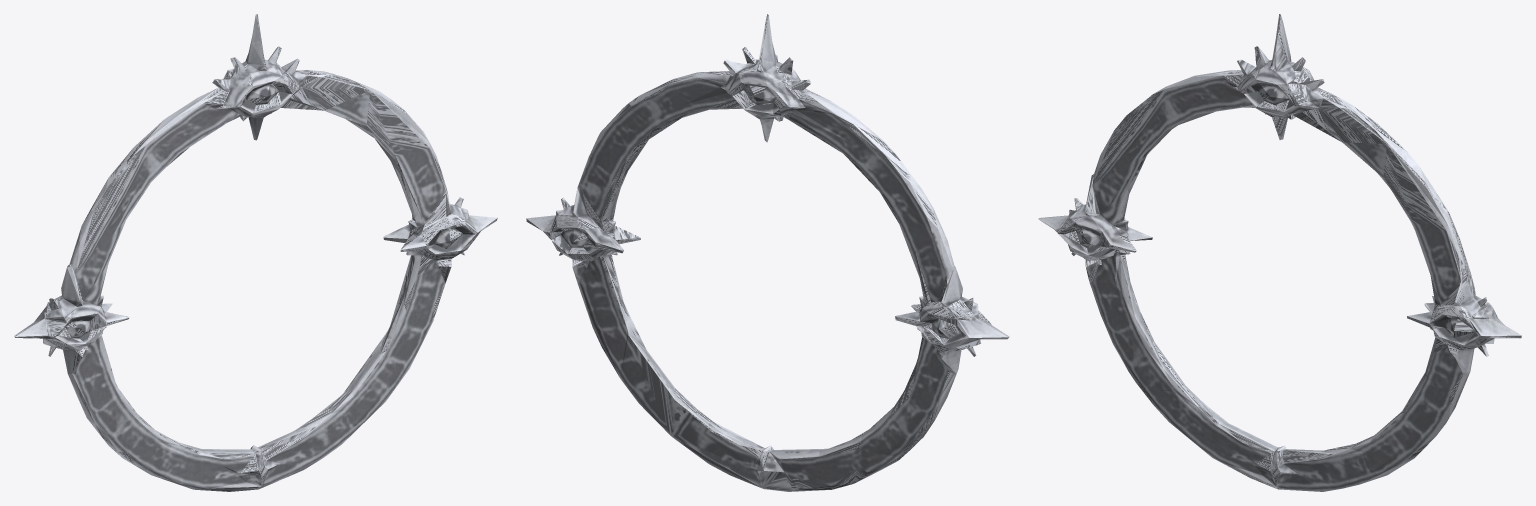
Rendered from watcher_halo.glb.
The picture shows the model from 3 angles, left to right: view 1: azimuth 30°, elevation 25°; view 2: azimuth 150°, elevation 25°; view 3: azimuth 330°, elevation 25°; orthographic projection.
Visible parts, largest first — view 1: watcher_halo; view 2: watcher_halo; view 3: watcher_halo.
Boxes of the visible parts, x1,y1,x2,y2 form: watcher_halo: [14, 14, 497, 491]; watcher_halo: [526, 14, 1009, 491]; watcher_halo: [1038, 14, 1521, 491].
Size of the model in its own units: 0.2998 by 0.281 by 0.0227.
1 material, 1 textured.
